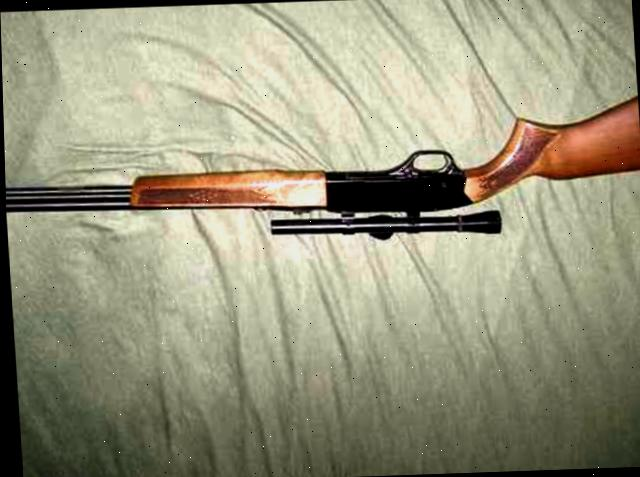rifle: (1, 32, 640, 265)
